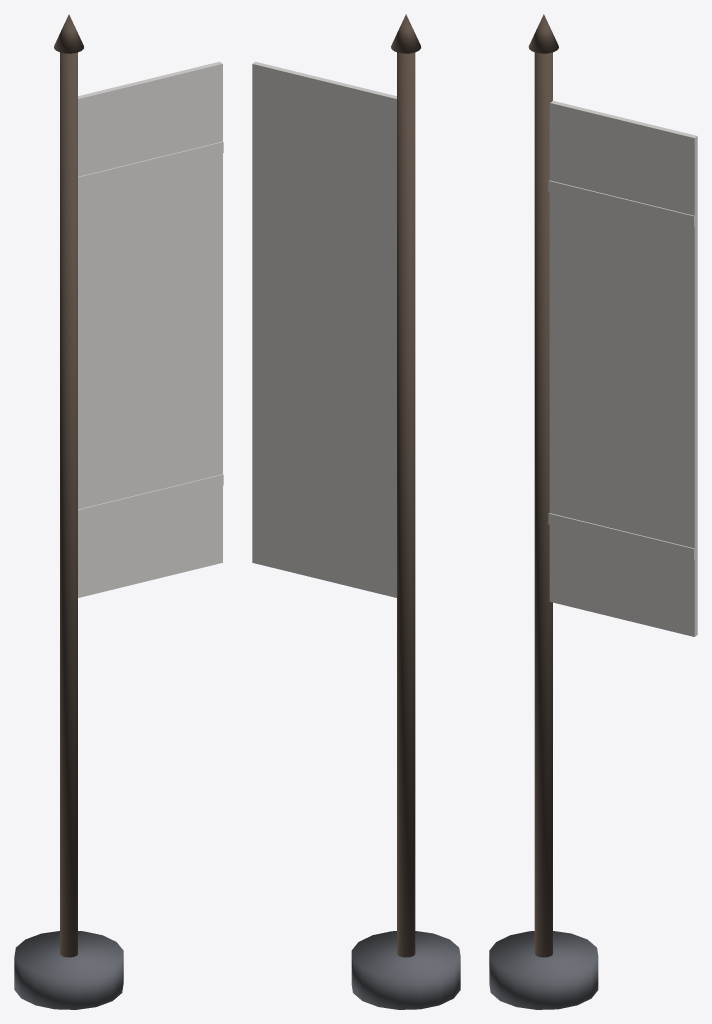
File: prop_tate_nobori_white.glb
3 views of the same model, side by side, from view 1: azimuth 30°, elevation 25°; view 2: azimuth 150°, elevation 25°; view 3: azimuth 330°, elevation 25° (orthographic).
Visible parts, largest first — view 1: tate_nobori_white; view 2: tate_nobori_white; view 3: tate_nobori_white.
Boxes of the visible parts, box(x1,y1,x2,y2) form: tate_nobori_white: box(14, 14, 223, 1009); tate_nobori_white: box(252, 14, 460, 1009); tate_nobori_white: box(489, 14, 697, 1009).
Size of the model in its own units: 0.755 by 3.51 by 0.36.
